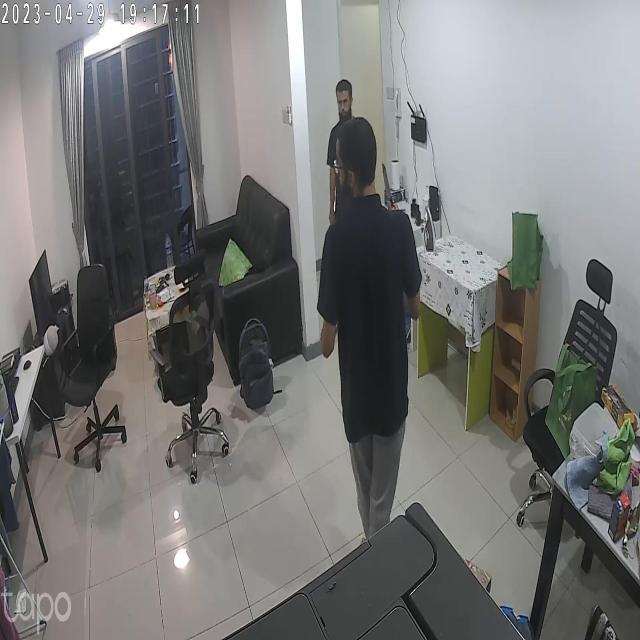Knife: (302, 334, 342, 371)
